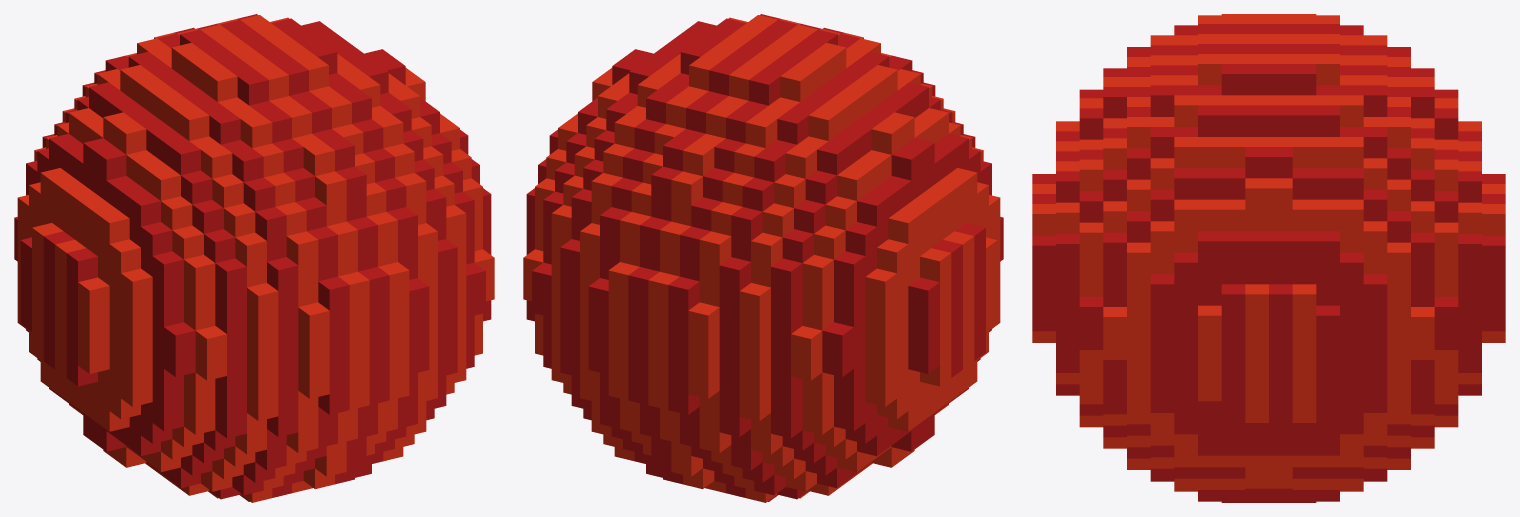
The model's file is yarn.obj.
3 renders of one model, left to right at view 1: azimuth 30°, elevation 25°; view 2: azimuth 150°, elevation 25°; view 3: azimuth 270°, elevation 25°, orthographic. The views are drawn at different scales.
Size of the model in its own units: 20 by 20 by 20.
Materials: 1 (1 with a texture image).
